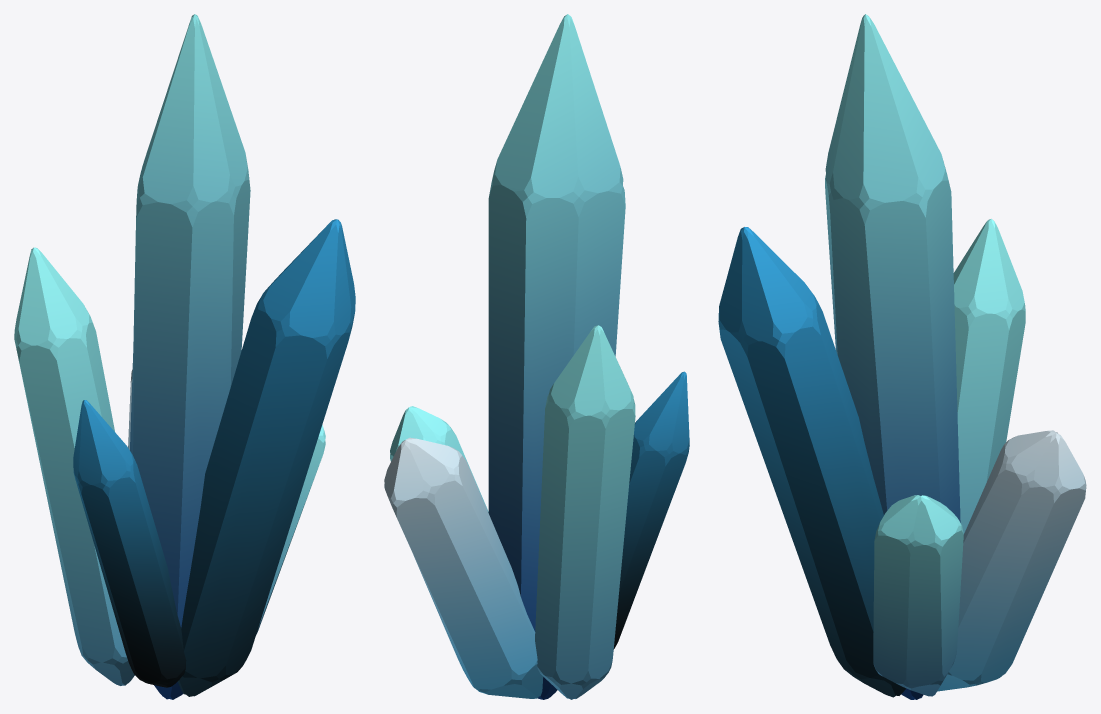
The model's file is crystal_air.fbx.
3 renders of one model, left to right at view 1: azimuth 30°, elevation 25°; view 2: azimuth 150°, elevation 25°; view 3: azimuth 270°, elevation 25°, orthographic. The views are drawn at different scales.
Parts seen in each view (by area): view 1: Cylinder, Cylinder.005, Cylinder.001, Cylinder.004, Cylinder.003; view 2: Cylinder, Cylinder.001, Cylinder.002, Cylinder.004, Cylinder.003; view 3: Cylinder, Cylinder.005, Cylinder.002, Cylinder.003, Cylinder.001.
Boxes of the visible parts, x1,y1,x2,y2 form: Cylinder: (130, 14, 250, 699); Cylinder.005: (177, 219, 355, 696); Cylinder.001: (14, 247, 134, 685); Cylinder.004: (73, 400, 186, 687); Cylinder.003: (256, 425, 325, 634); Cylinder: (488, 14, 625, 699); Cylinder.001: (535, 325, 635, 699); Cylinder.002: (384, 437, 543, 698); Cylinder.004: (613, 371, 689, 649); Cylinder.003: (390, 406, 488, 512); Cylinder: (825, 14, 960, 699); Cylinder.005: (718, 227, 905, 697); Cylinder.002: (937, 430, 1086, 691); Cylinder.003: (873, 495, 963, 696); Cylinder.001: (953, 219, 1025, 534).
Size of the model in its own units: 37.61 by 92.47 by 44.98.
1 material, 1 textured.
